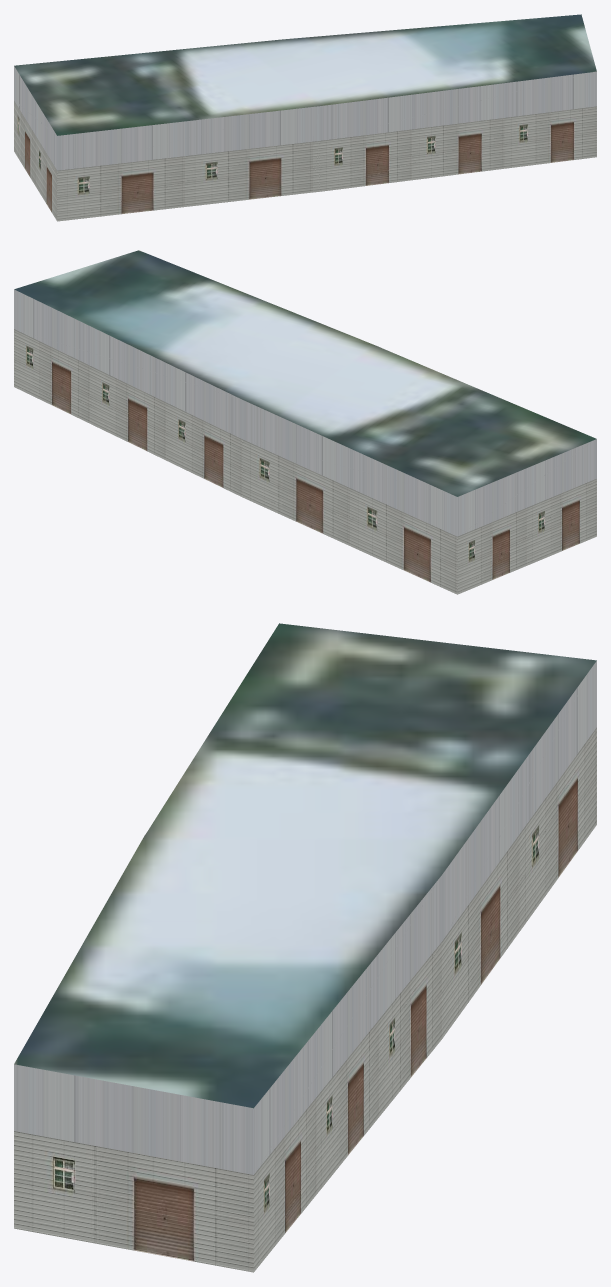
Rendered from T_1T8S44PGXG.dae.
3 renders of one model, top to bottom at view 1: azimuth 30°, elevation 25°; view 2: azimuth 150°, elevation 25°; view 3: azimuth 270°, elevation 25°, orthographic. The views are drawn at different scales.
Parts seen in each view (by area): view 1: SketchUp (×3); view 2: SketchUp (×3); view 3: SketchUp (×3).
Boxes of the visible parts, x1,y1,x2,y2 form: SketchUp (×3): [14, 14, 596, 221]; SketchUp (×3): [14, 250, 596, 594]; SketchUp (×3): [14, 623, 596, 1272].
Size of the model in its own units: 1386 by 704 by 219.
Materials: 3 (3 with a texture image).
